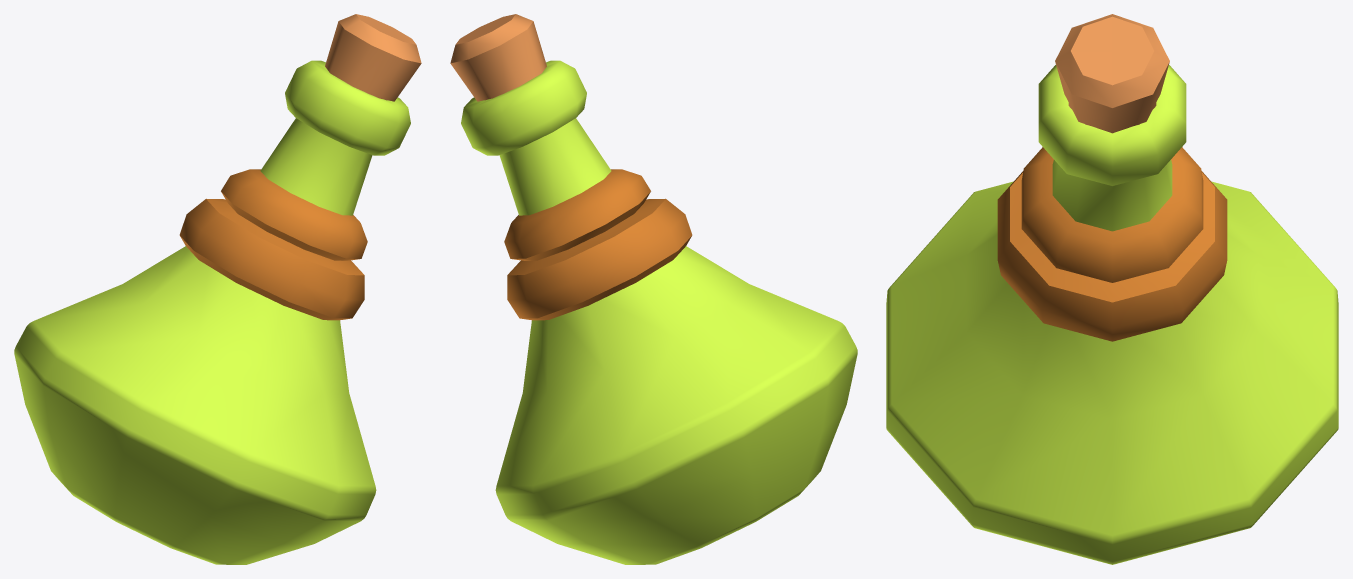
3 views of the same model, side by side, from view 1: azimuth 30°, elevation 25°; view 2: azimuth 150°, elevation 25°; view 3: azimuth 270°, elevation 25° (orthographic). The views are drawn at different scales.
Parts seen in each view (by area): view 1: model_0.083; view 2: model_0.083; view 3: model_0.083.
Boxes of the visible parts, left/top/right/bottom form: model_0.083: left=14, top=14, right=421, bottom=564; model_0.083: left=450, top=14, right=857, bottom=564; model_0.083: left=886, top=14, right=1338, bottom=564.
Size of the model in its own units: 3.15 by 4 by 2.71.
